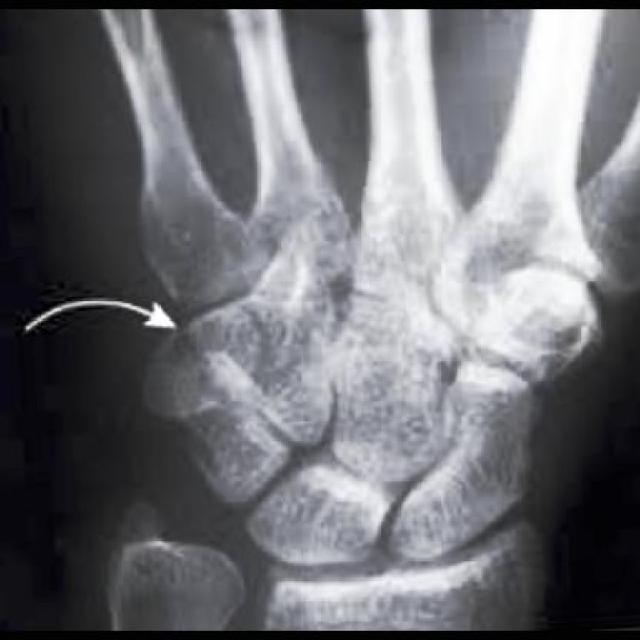Fracture: (140, 317, 277, 474)
